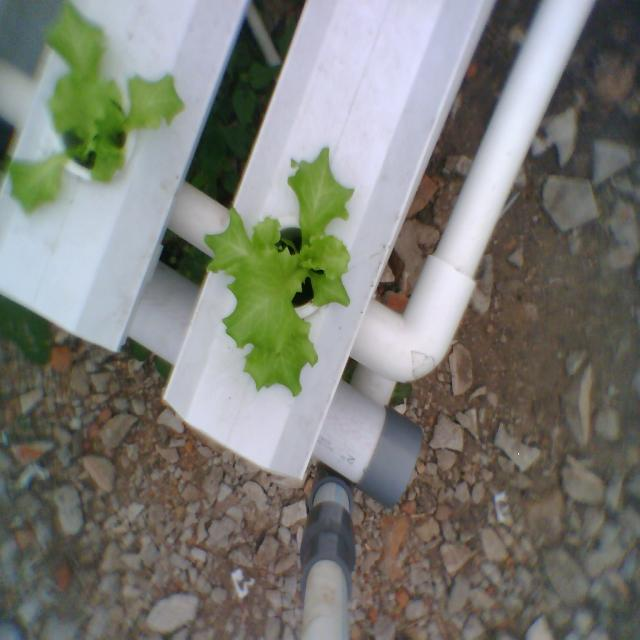FN: (196, 146, 358, 404), (2, 0, 186, 222)
